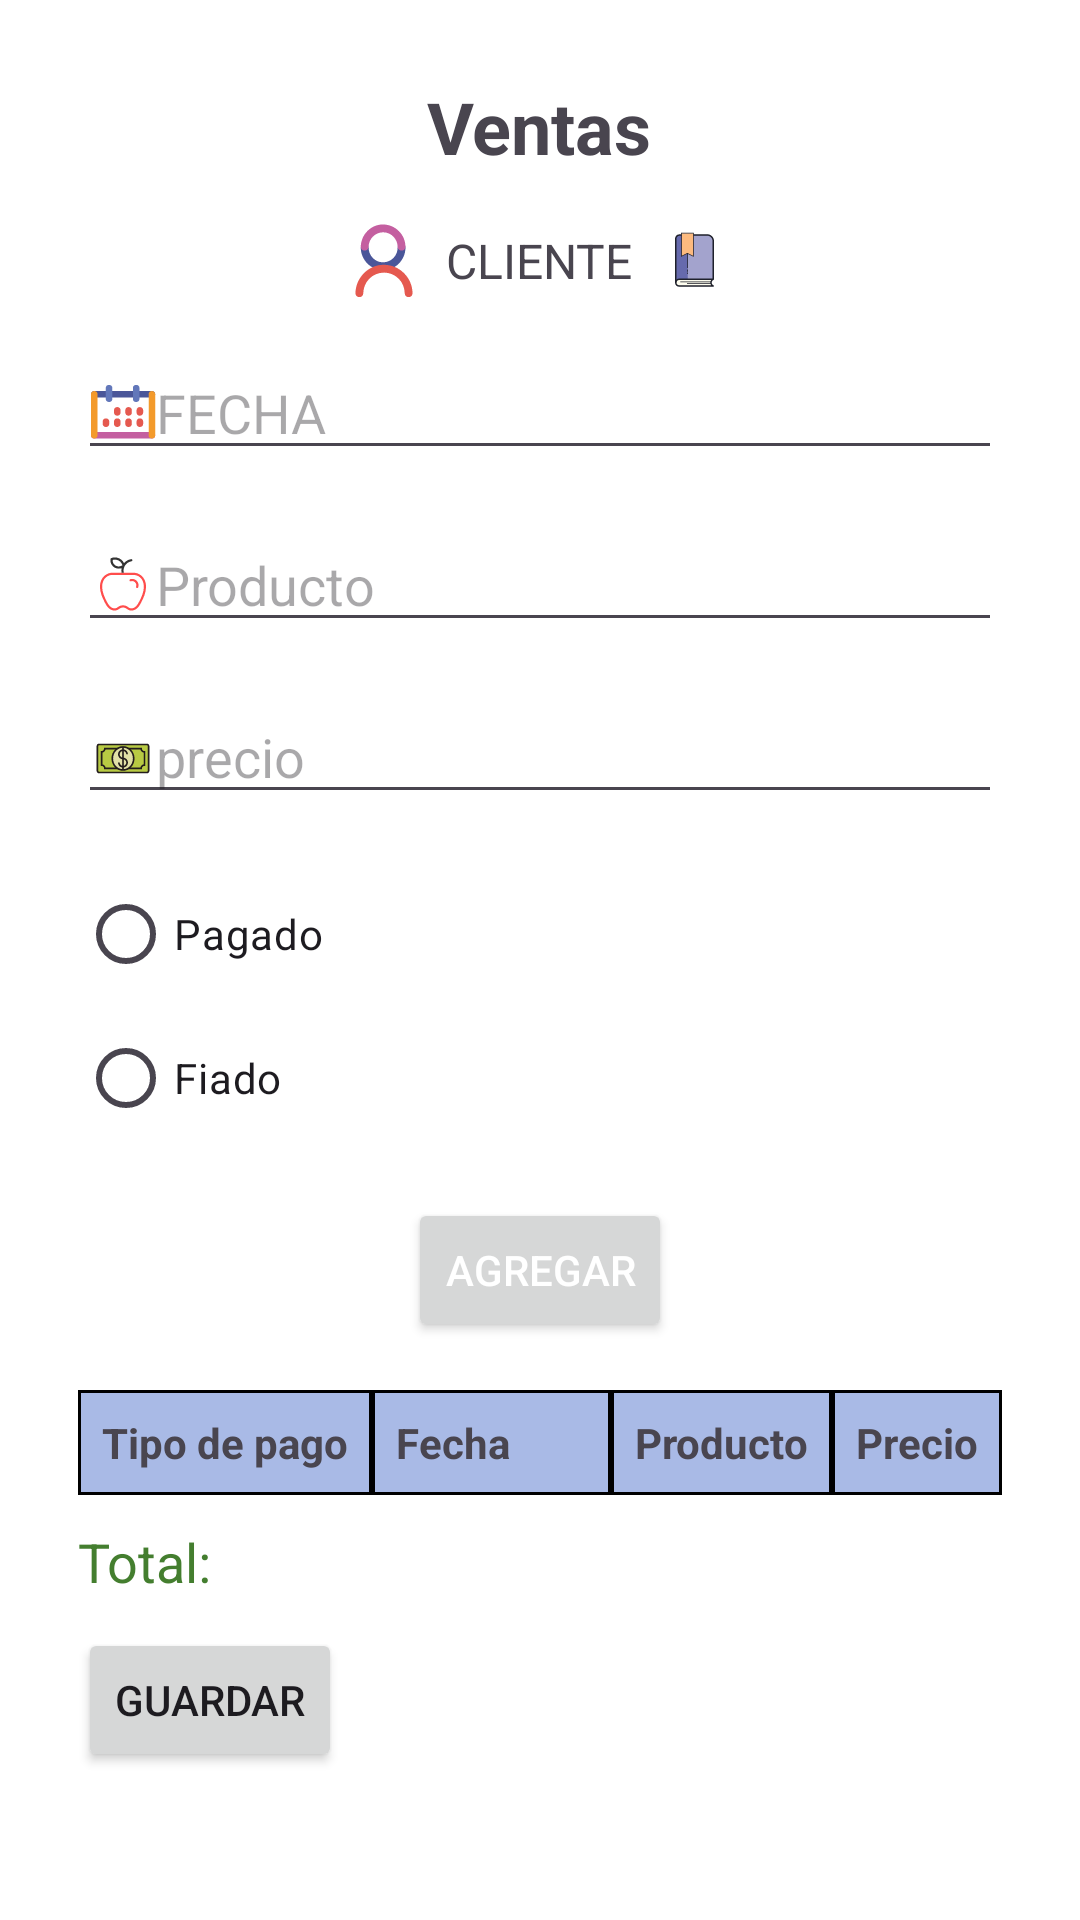

Named icons in this screenshot (1080 x 1920) and their centers, (x,y):
bookmark: (694,259)
user: (384,260)
